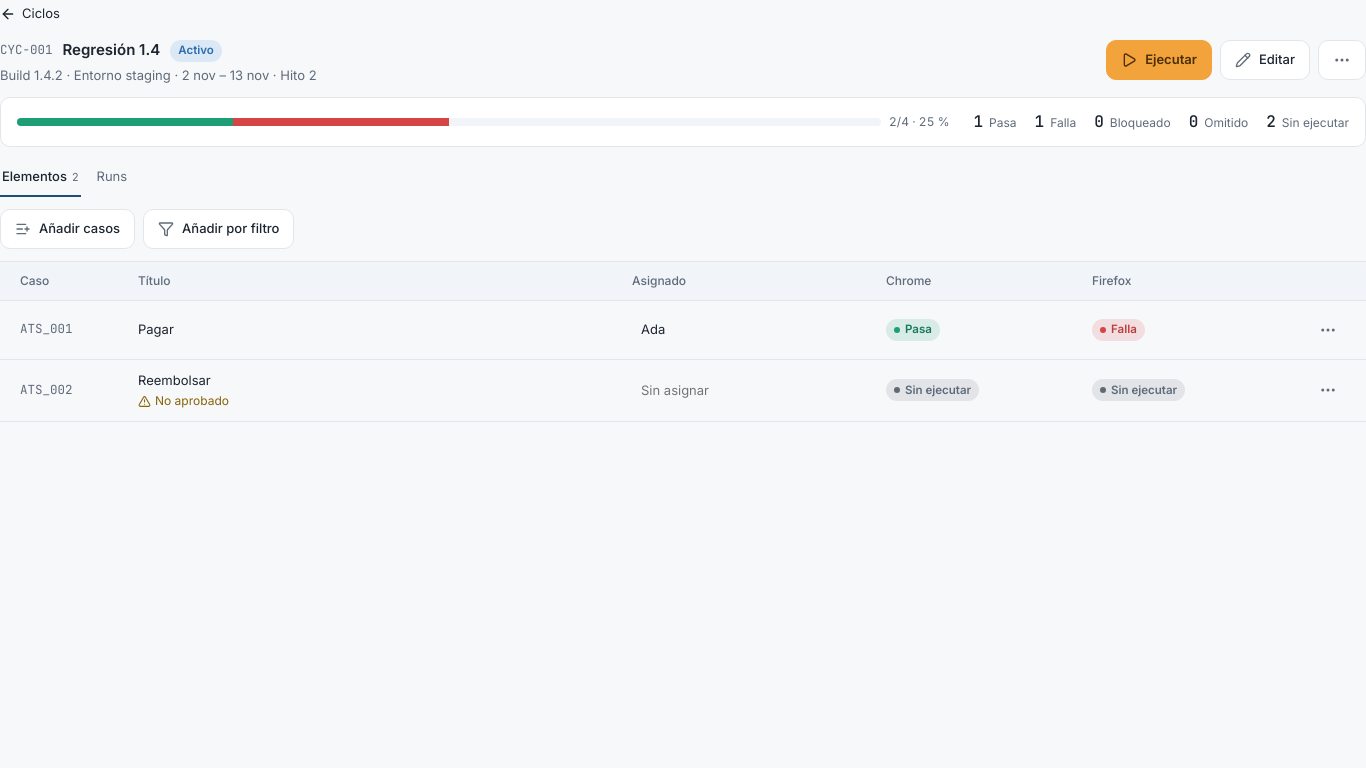
Ciclos › an «Ejecutar» refused for a case shows its key in the dialog
Click the button "Ejecutar".
click(1159, 60)  # box top-left (1106, 40), bottom-right (1212, 80)
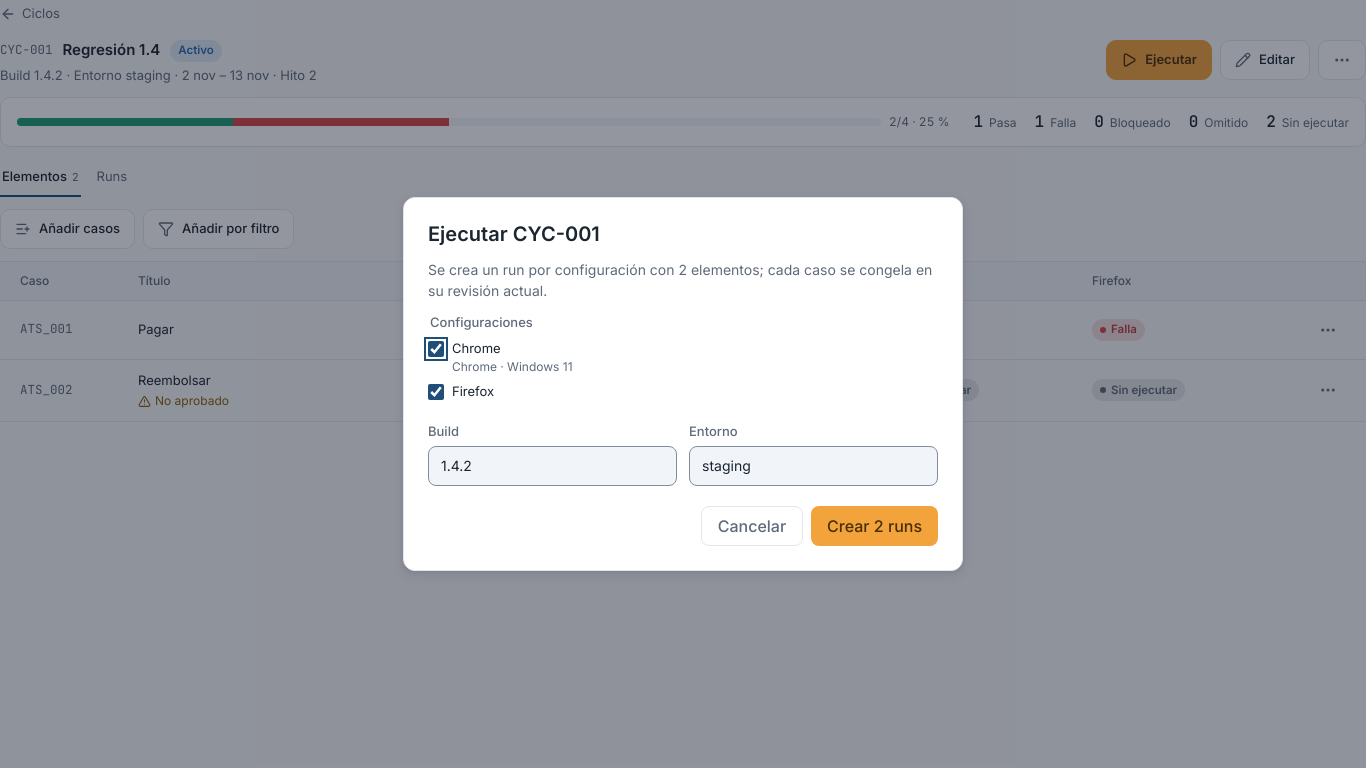
Click the button "Crear 2 runs".
click(875, 526)  # box top-left (811, 506), bottom-right (938, 546)
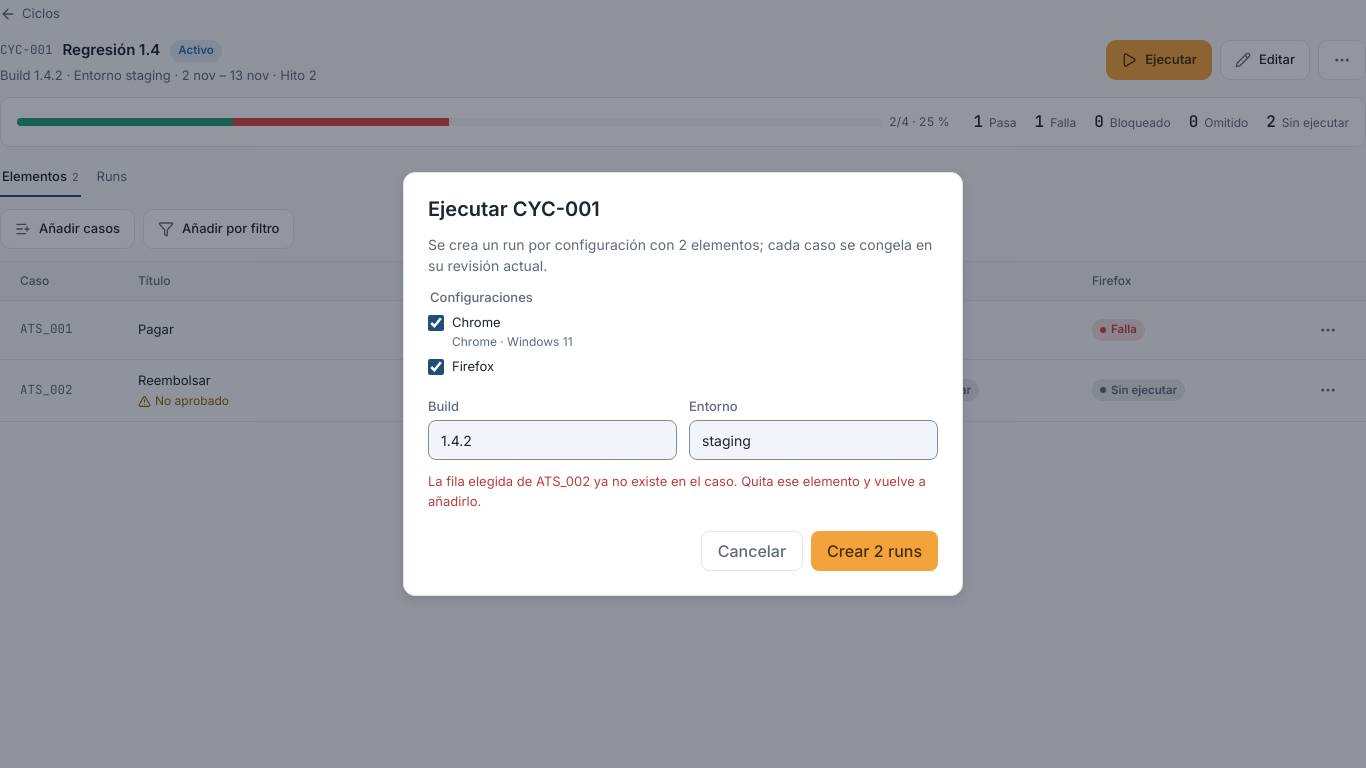
Expected: the message shows "La fila elegida de ATS_002 ya no existe en el caso.", top-left (428, 473), bottom-right (926, 509)
